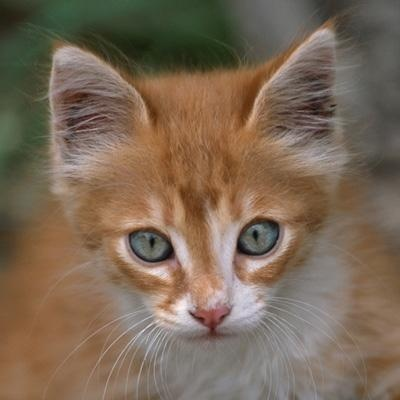cat: (31, 16, 388, 378)
